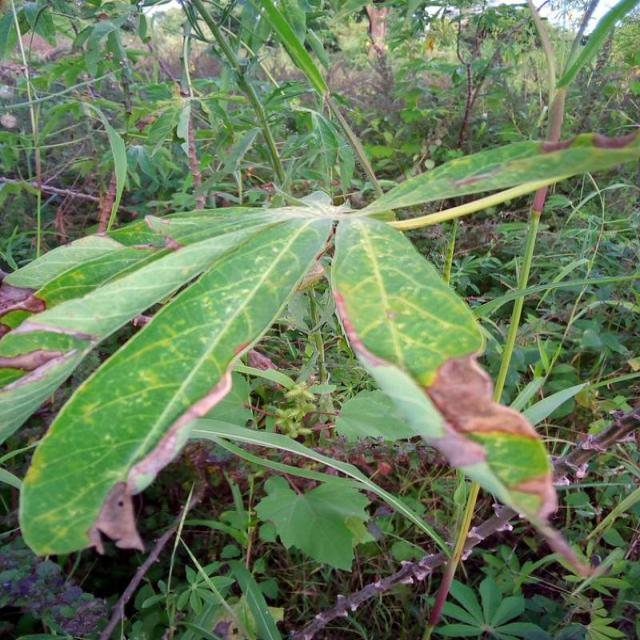cassava leaf: (16, 195, 333, 557), (328, 212, 616, 585)
